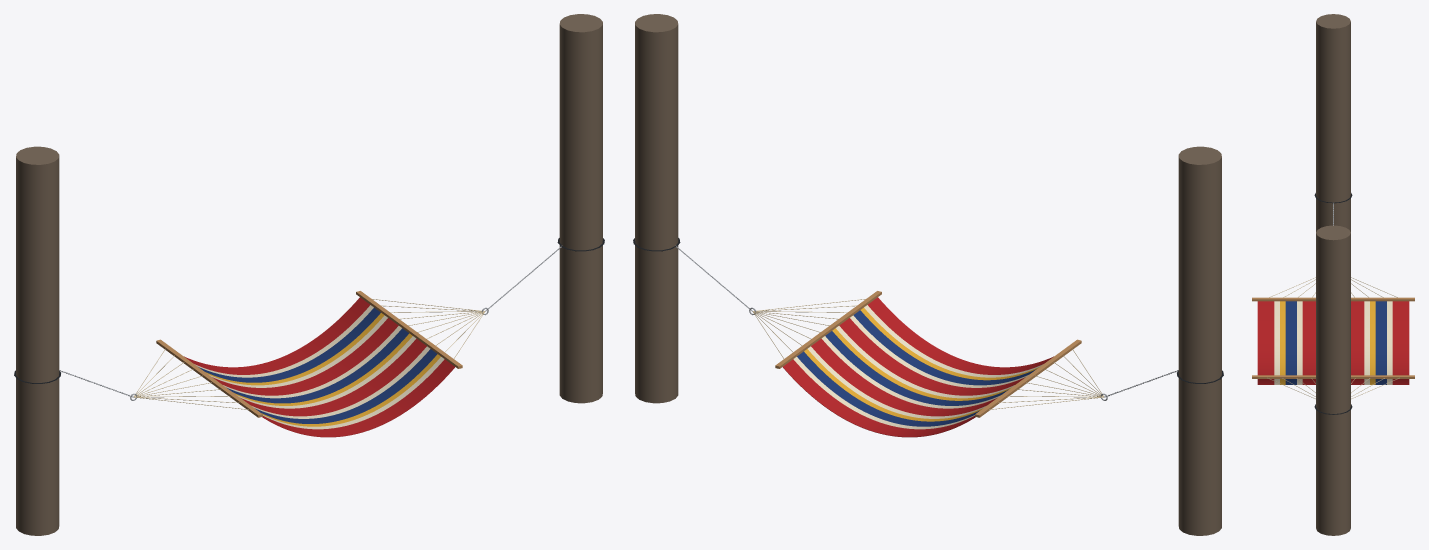
File: hammock_spreader_canvas.glb
The picture shows the model from 3 angles, left to right: view 1: azimuth 30°, elevation 25°; view 2: azimuth 150°, elevation 25°; view 3: azimuth 270°, elevation 25°; orthographic projection. The views are drawn at different scales.
Parts seen in each view (by area): view 1: hammock_spreader_canvas, bed_hammock_spreader_canvas; view 2: hammock_spreader_canvas, bed_hammock_spreader_canvas; view 3: hammock_spreader_canvas, bed_hammock_spreader_canvas.
Part boxes in pixels (box(x1,y1,x2,y2)): hammock_spreader_canvas: box(14, 14, 604, 535); bed_hammock_spreader_canvas: box(59, 245, 562, 437); hammock_spreader_canvas: box(633, 14, 1223, 535); bed_hammock_spreader_canvas: box(675, 245, 1178, 437); hammock_spreader_canvas: box(1314, 14, 1352, 535); bed_hammock_spreader_canvas: box(1252, 203, 1414, 398).
Bounding box in the file's own units: 4.95 × 3 × 1.5.
